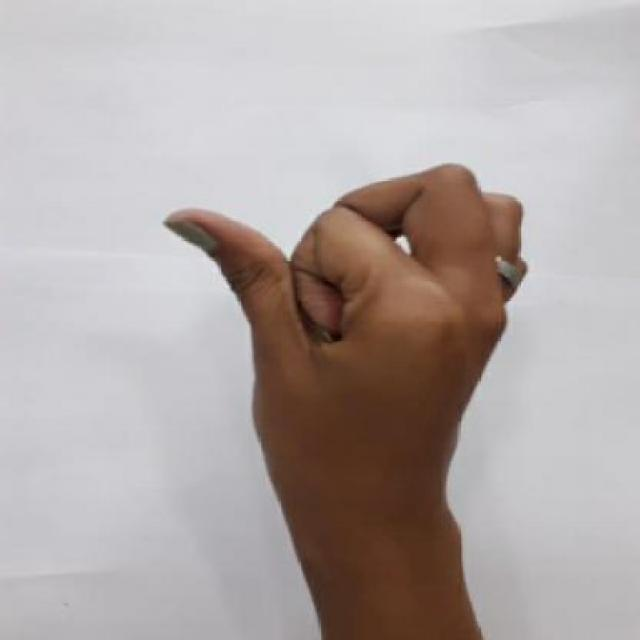without_gloves: (138, 136, 564, 519)
